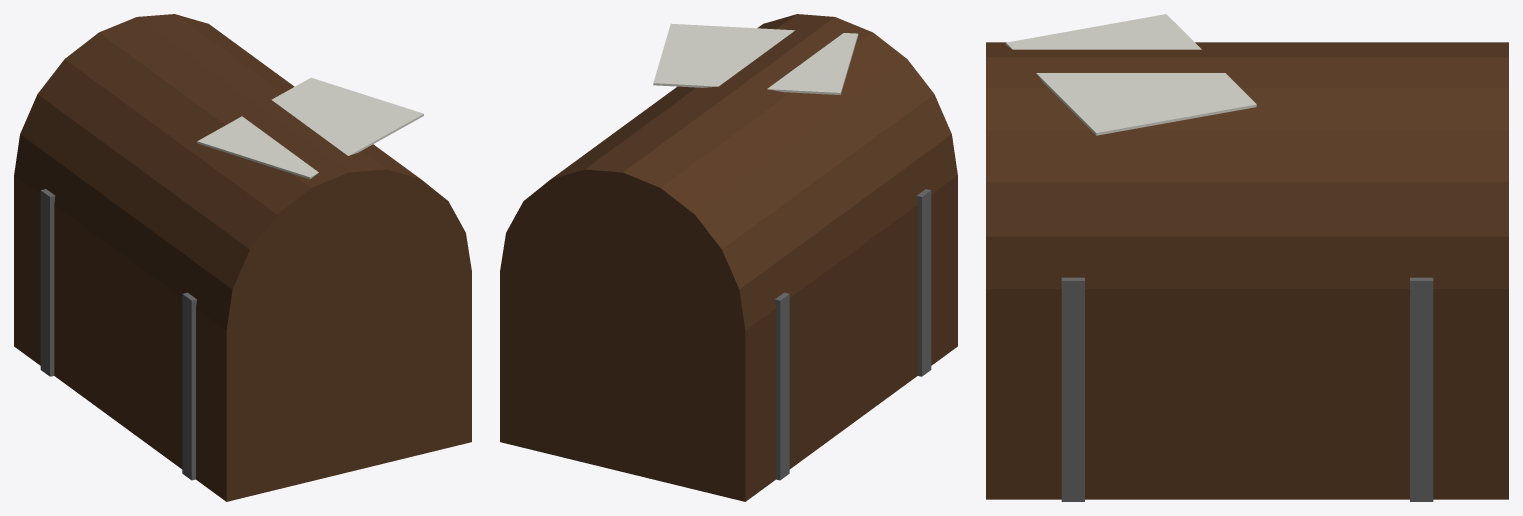
File: dusty_trunk.glb
3 renders of one model, left to right at view 1: azimuth 30°, elevation 25°; view 2: azimuth 150°, elevation 25°; view 3: azimuth 270°, elevation 25°, orthographic. The views are drawn at different scales.
Visible parts, largest first — view 1: body_trunk_wood, body_cobweb, body_trunk_band; view 2: body_trunk_wood, body_cobweb, body_trunk_band; view 3: body_trunk_wood, body_cobweb, body_trunk_band.
Boxes of the visible parts, x1,y1,x2,y2 form: body_trunk_wood: [14, 14, 471, 501]; body_cobweb: [197, 77, 423, 178]; body_trunk_band: [40, 189, 196, 480]; body_trunk_wood: [500, 14, 957, 501]; body_cobweb: [653, 23, 858, 94]; body_trunk_band: [775, 189, 931, 480]; body_trunk_wood: [986, 42, 1508, 499]; body_cobweb: [1005, 14, 1256, 135]; body_trunk_band: [1061, 277, 1433, 501].
Size of the model in its own units: 0.62 by 0.7 by 0.9.
